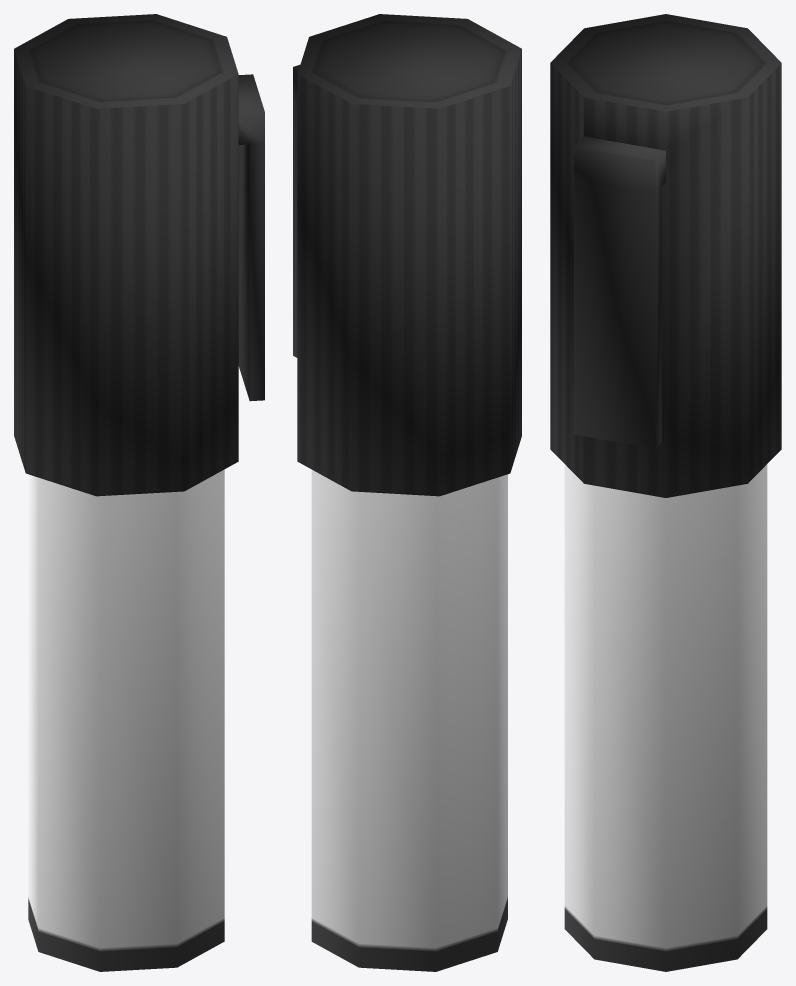
The model's file is pen.FBX.
The picture shows the model from 3 angles, left to right: view 1: azimuth 30°, elevation 25°; view 2: azimuth 150°, elevation 25°; view 3: azimuth 270°, elevation 25°; orthographic projection.
Visible parts, largest first — view 1: pen; view 2: pen; view 3: pen.
Part boxes in pixels (x1,y1,x2,y2): pen: (14,14,264,971); pen: (293,14,521,971); pen: (550,14,781,971).
Bounding box in the file's own units: 12.33 × 46.03 × 11.16.
